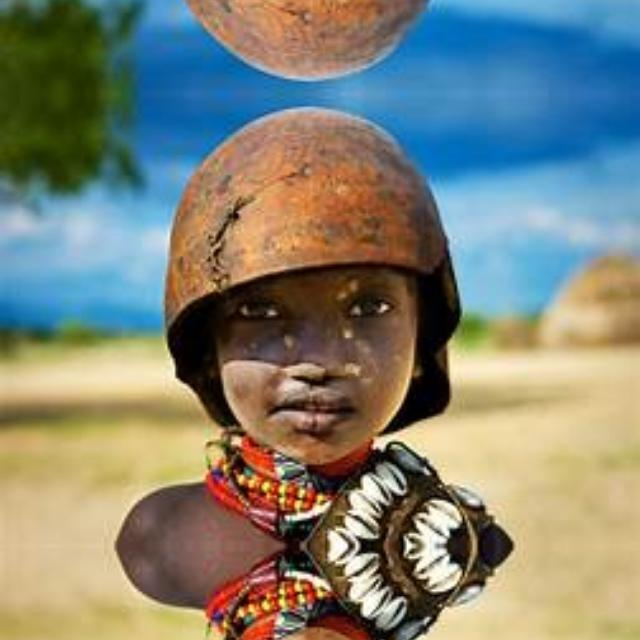person: (171, 131, 457, 545), (171, 545, 457, 640), (171, 0, 457, 55)
